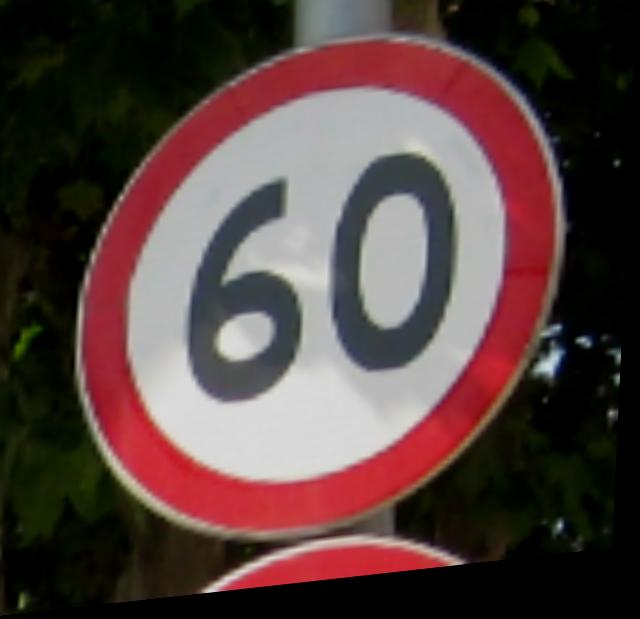limit60: (49, 9, 596, 576)
